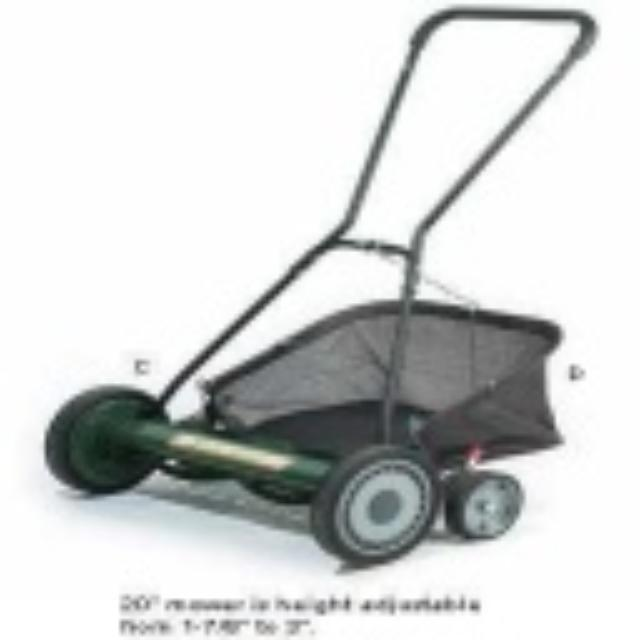Rotary-Mower: (40, 0, 595, 564)
